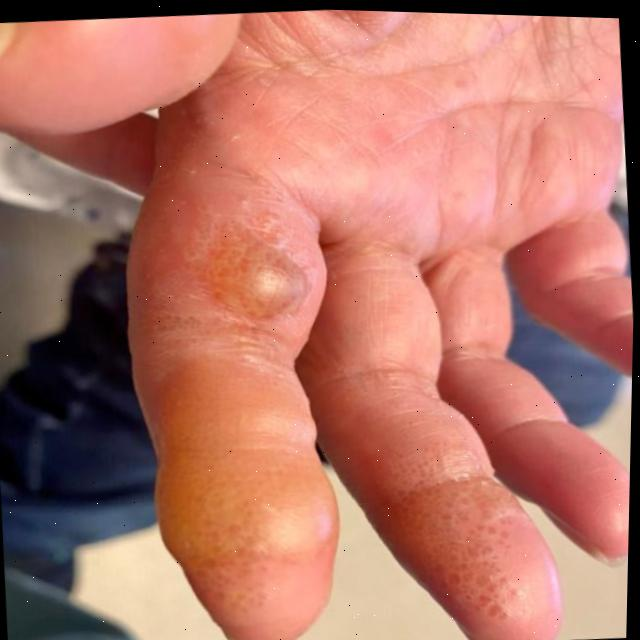Eczema: (180, 137, 536, 640)
